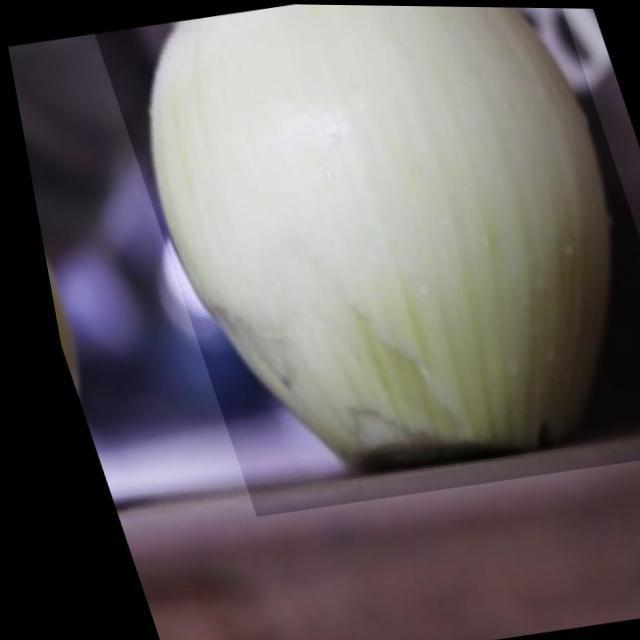Onion: (89, 1, 640, 521)
